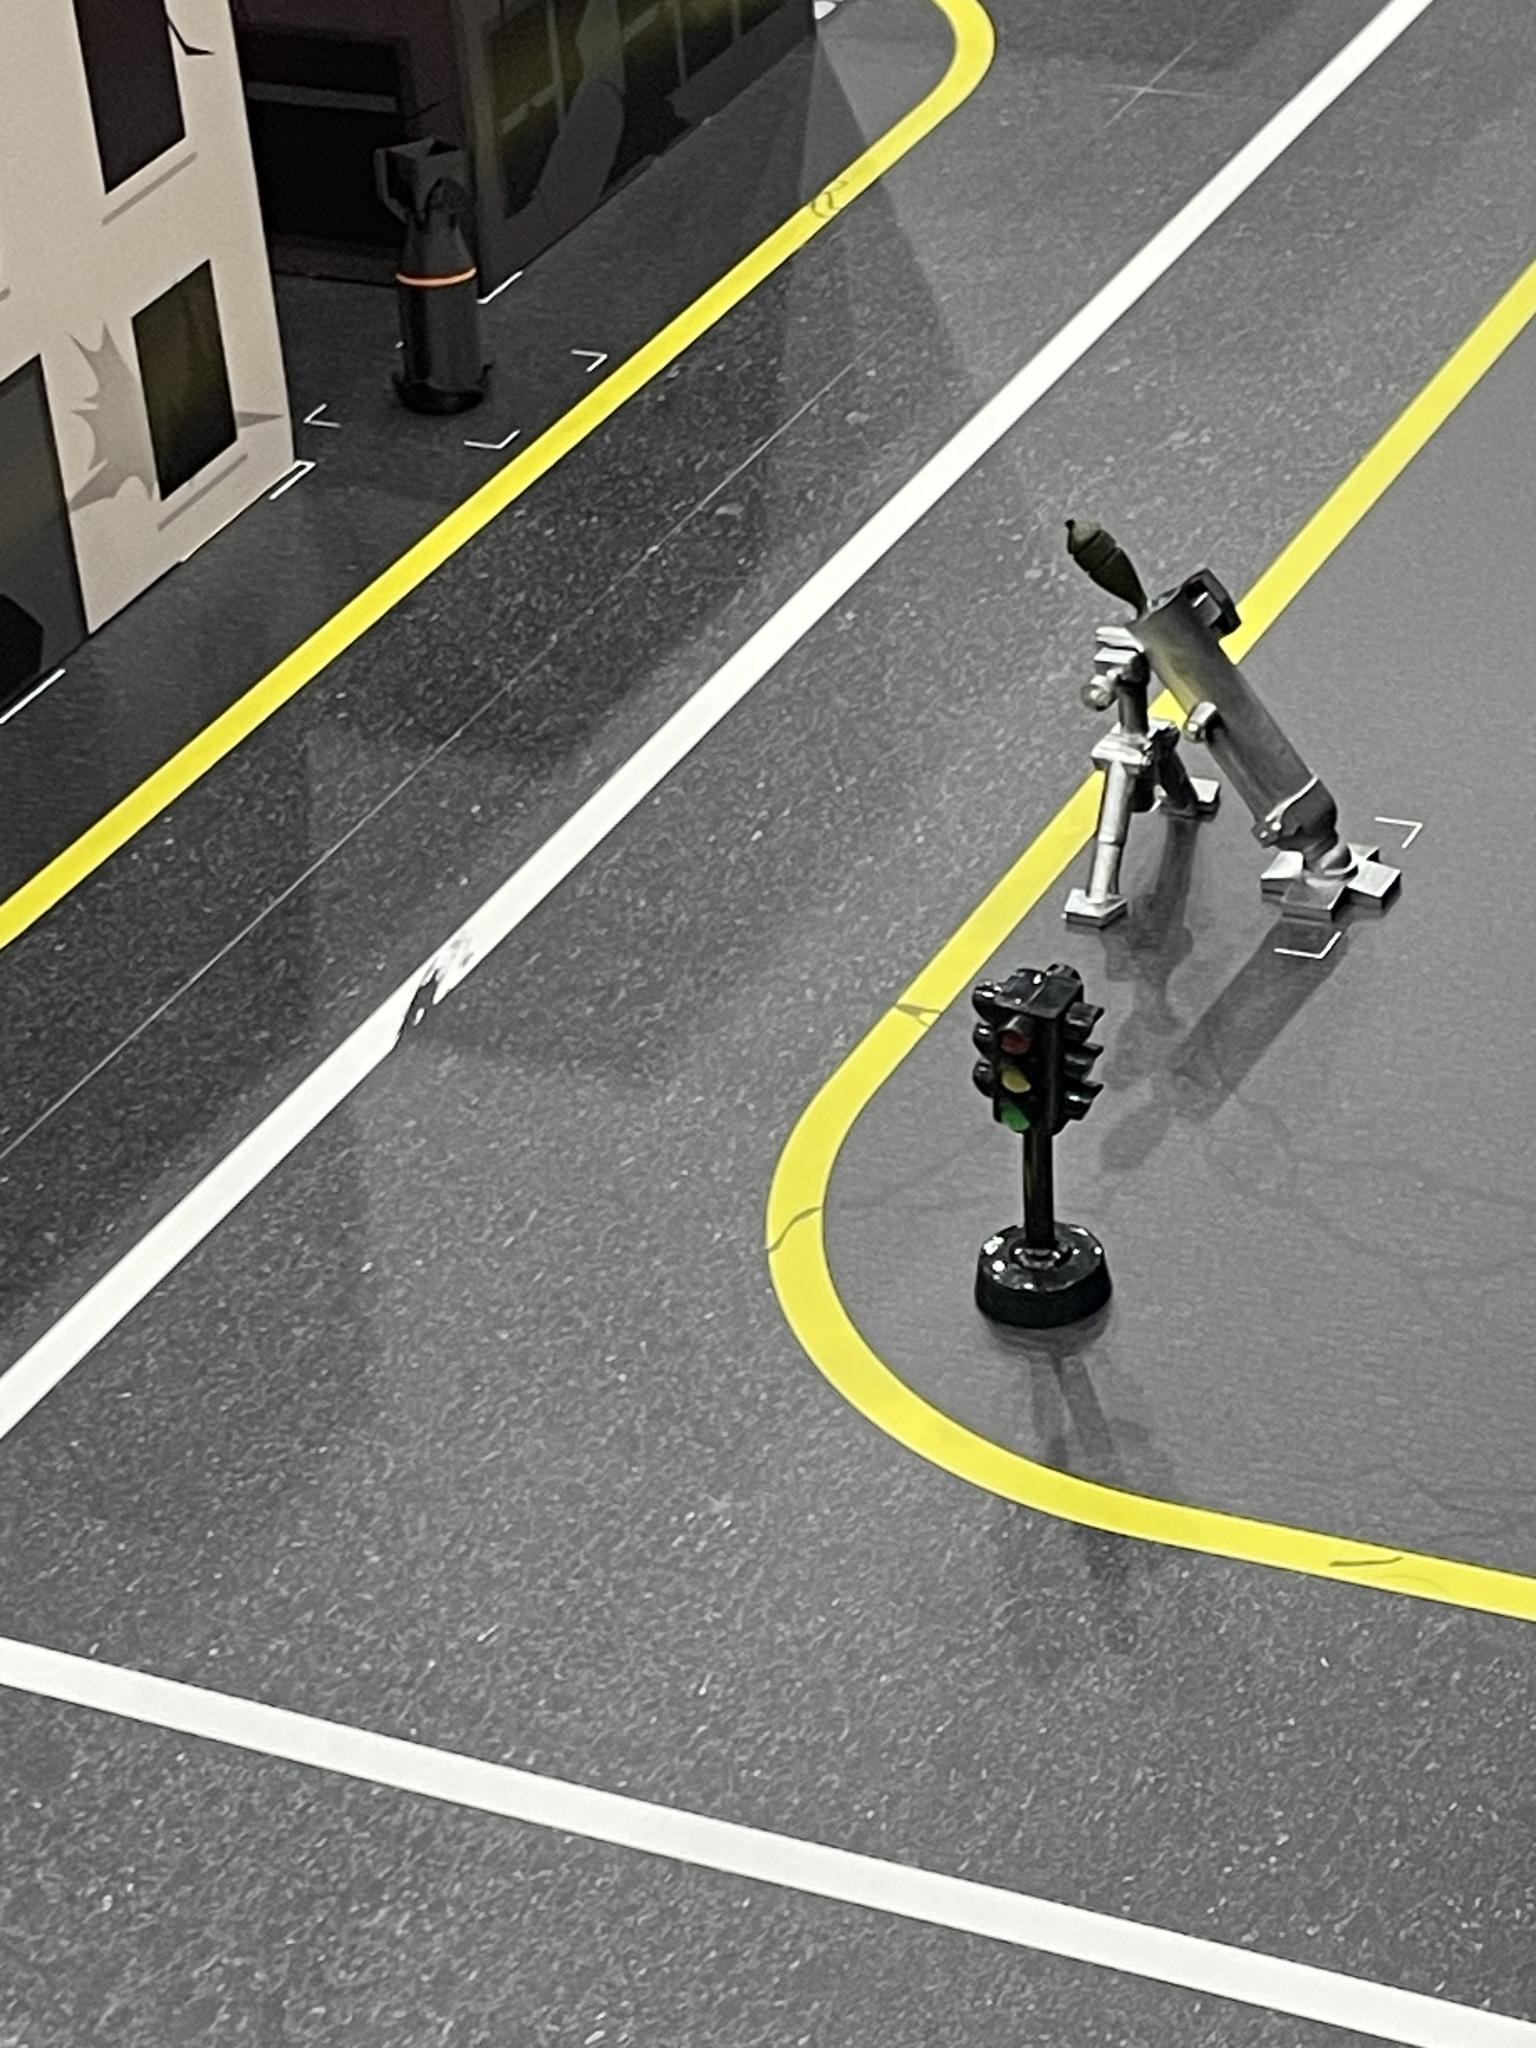Missile: (381, 129, 499, 429)
Mortar: (1052, 508, 1433, 971)
